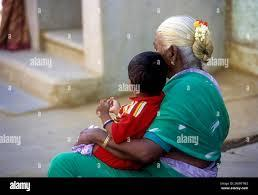Human: (34, 13, 239, 181), (92, 50, 164, 167)
